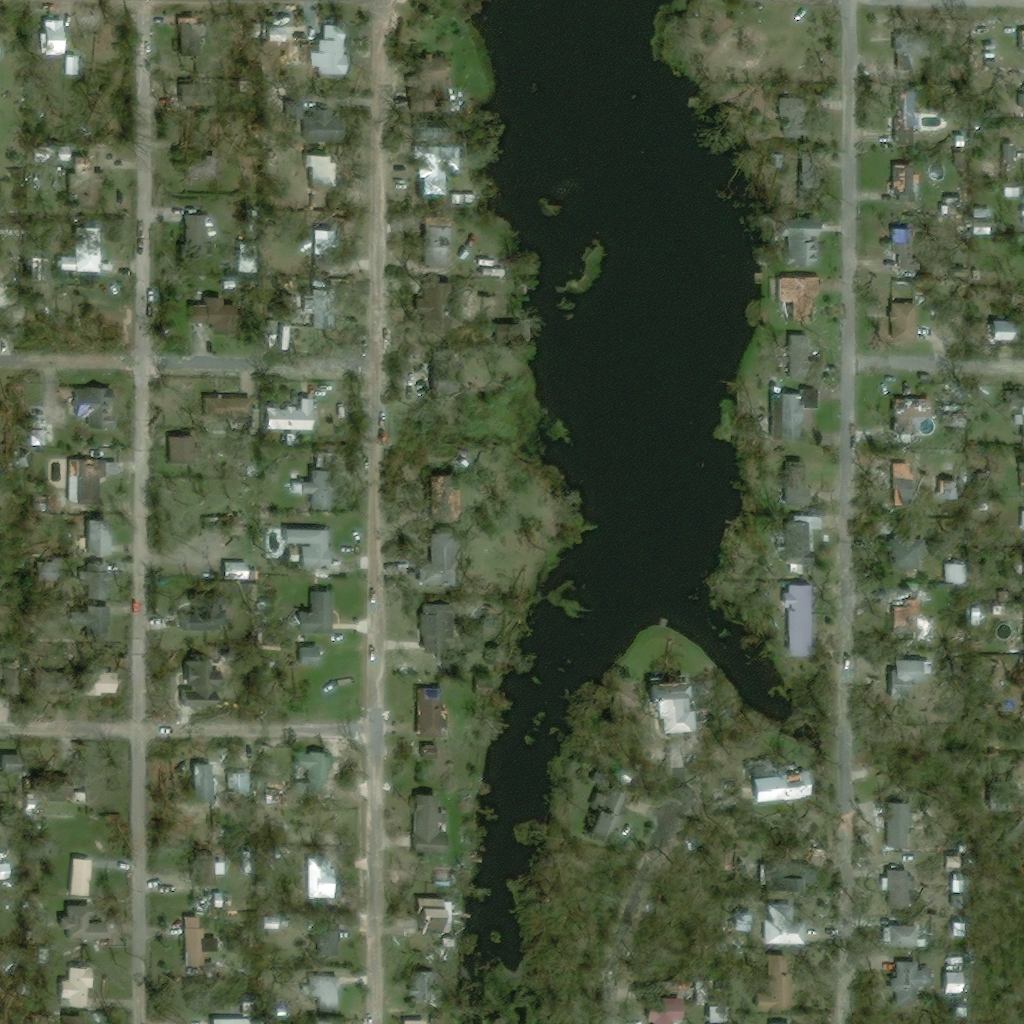major_damage: (754, 766, 794, 795)
minor_damage: (636, 678, 698, 736), (55, 156, 109, 222), (415, 686, 449, 739), (76, 386, 117, 427), (894, 396, 930, 442), (69, 458, 105, 503), (894, 91, 921, 143), (774, 275, 818, 306), (302, 287, 333, 328), (888, 43, 917, 72), (891, 592, 920, 613), (892, 164, 912, 193), (1001, 145, 1013, 165)
no_damage: (581, 787, 651, 860), (283, 528, 345, 577), (407, 280, 453, 344), (875, 800, 929, 848), (59, 232, 112, 275), (179, 916, 218, 974), (421, 348, 462, 400), (754, 951, 790, 1010), (780, 514, 823, 562), (886, 515, 924, 569), (411, 792, 444, 854), (194, 762, 243, 803), (415, 530, 450, 587), (775, 220, 818, 266), (304, 22, 340, 76), (192, 297, 243, 333), (786, 461, 824, 509), (779, 585, 805, 653), (416, 139, 453, 186), (882, 295, 918, 343), (416, 603, 451, 652), (420, 211, 450, 267), (60, 905, 105, 942), (182, 592, 225, 630), (63, 619, 107, 655), (263, 396, 312, 428), (292, 753, 329, 795), (891, 960, 931, 998), (759, 861, 816, 887), (298, 590, 332, 633), (301, 470, 338, 509), (178, 140, 218, 176), (413, 53, 449, 92), (177, 660, 214, 697), (59, 967, 92, 1006), (303, 112, 343, 141), (892, 659, 932, 688), (82, 570, 110, 609), (304, 154, 343, 182), (781, 393, 803, 441), (182, 215, 206, 258), (174, 23, 199, 64), (769, 912, 801, 943), (306, 975, 336, 1008), (308, 854, 335, 890), (889, 868, 913, 908), (86, 518, 112, 554), (921, 583, 961, 606), (404, 970, 435, 999), (886, 229, 909, 268), (976, 963, 1008, 991), (790, 340, 814, 377), (884, 925, 927, 945), (72, 858, 92, 900), (645, 1002, 684, 1023), (162, 463, 192, 490), (44, 773, 71, 801), (207, 398, 243, 418), (943, 401, 968, 427), (30, 406, 47, 444), (78, 672, 105, 695), (12, 751, 37, 775), (195, 862, 225, 882), (44, 20, 62, 53), (314, 229, 332, 255), (34, 148, 68, 161), (315, 930, 335, 952), (411, 899, 438, 915), (990, 321, 1011, 341), (258, 296, 277, 317), (27, 270, 55, 284), (4, 449, 26, 466), (280, 295, 297, 317), (988, 782, 1005, 804), (263, 27, 288, 41), (301, 646, 319, 665), (64, 51, 79, 73), (736, 913, 753, 931), (994, 357, 1009, 375), (200, 531, 213, 550), (0, 286, 7, 319), (443, 191, 466, 201), (944, 563, 956, 582), (972, 609, 986, 625), (63, 1014, 87, 1023), (200, 1017, 236, 1023), (315, 453, 330, 467), (1007, 393, 1023, 406), (468, 257, 490, 265), (1003, 188, 1019, 198), (970, 207, 990, 215), (978, 497, 990, 510), (420, 745, 431, 759), (976, 143, 984, 159), (402, 1018, 426, 1023), (757, 274, 770, 283), (1015, 414, 1023, 425), (1019, 31, 1023, 40)
